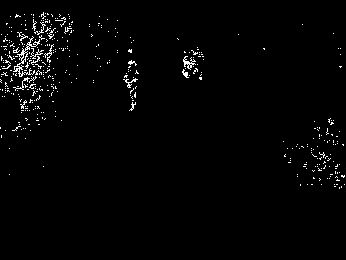person: (123, 56, 143, 113)
